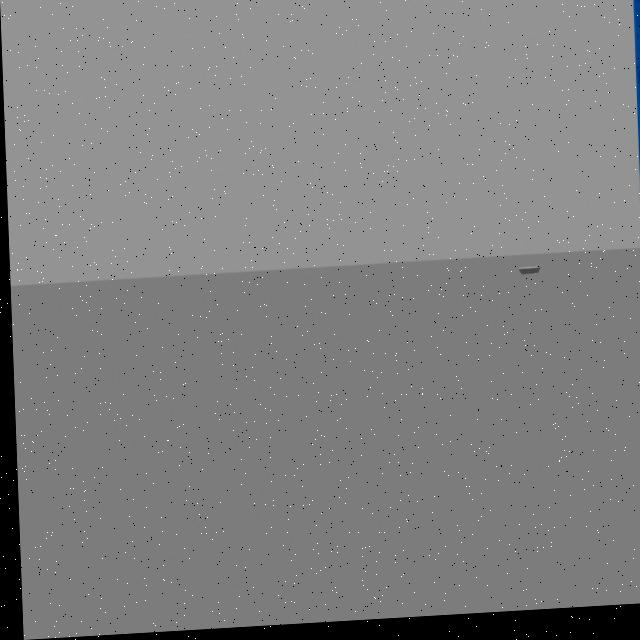bowl: (513, 263, 546, 284)
shelf: (624, 0, 640, 340)
